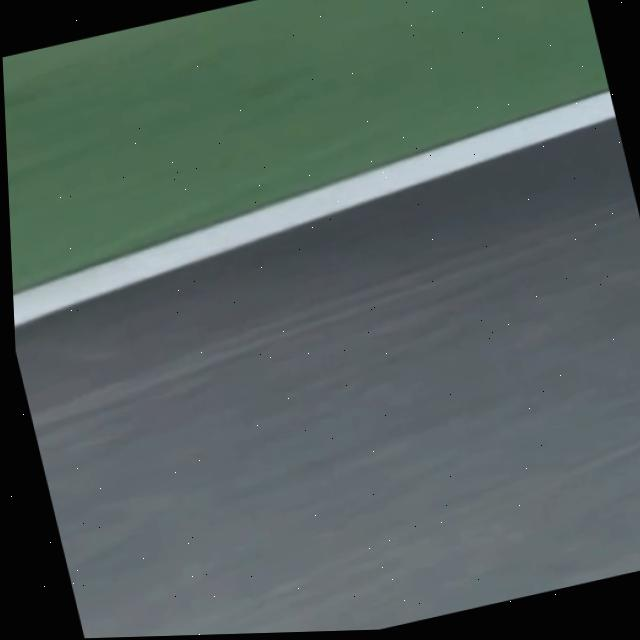right: (13, 91, 616, 328)
